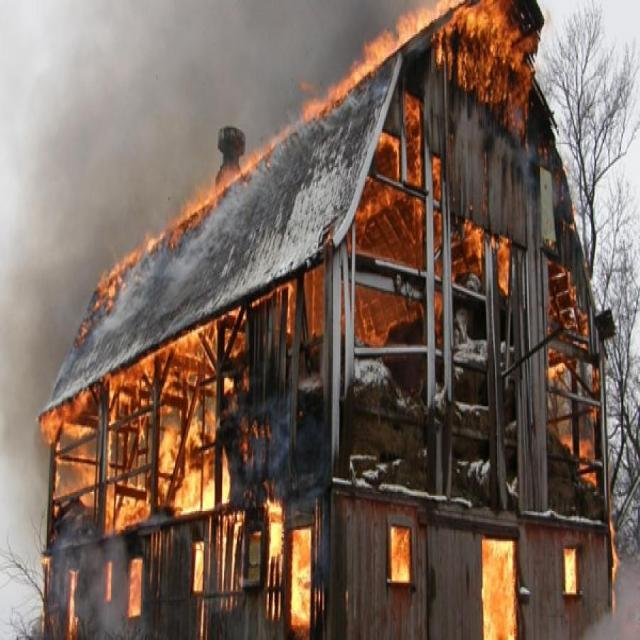Fire: (96, 358, 219, 499), (433, 3, 528, 109)
Smoke: (96, 12, 327, 84), (45, 107, 208, 207), (26, 227, 76, 330)
